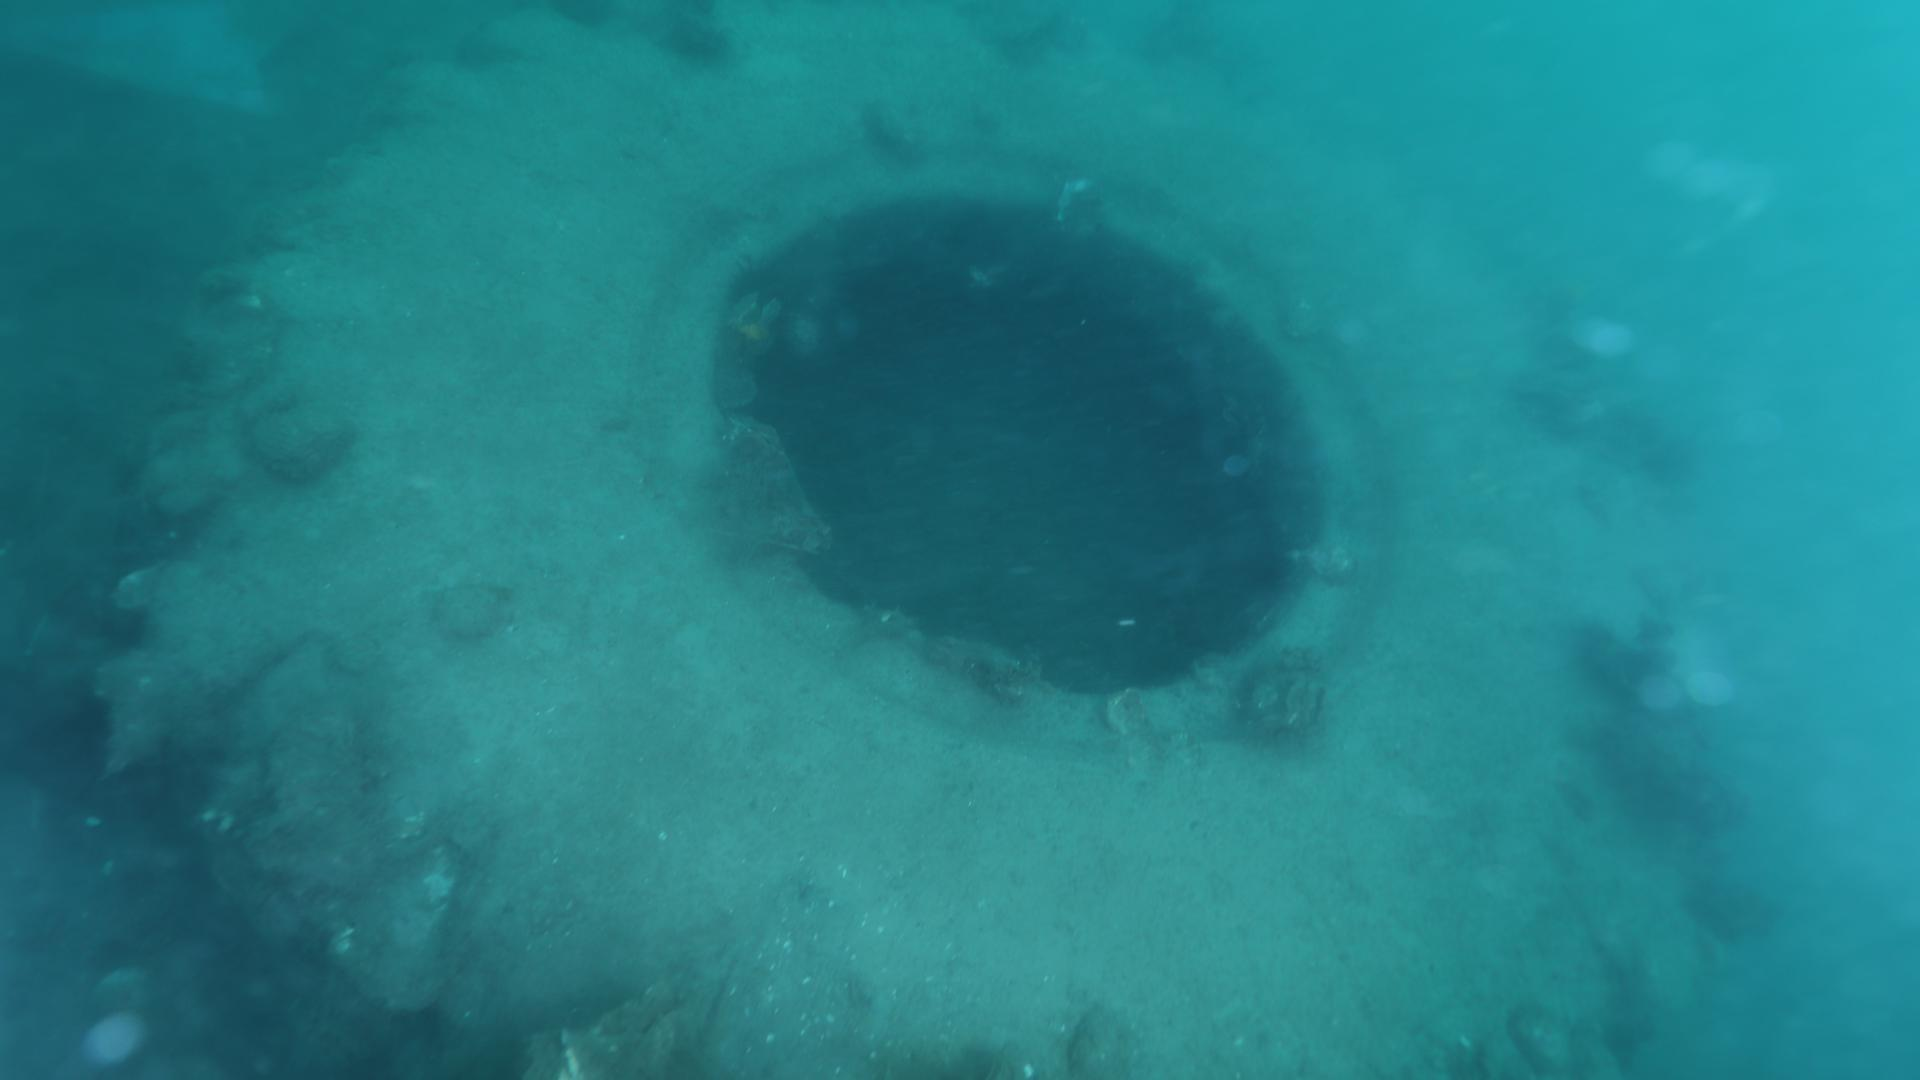tire: (150, 1, 1708, 1080)
